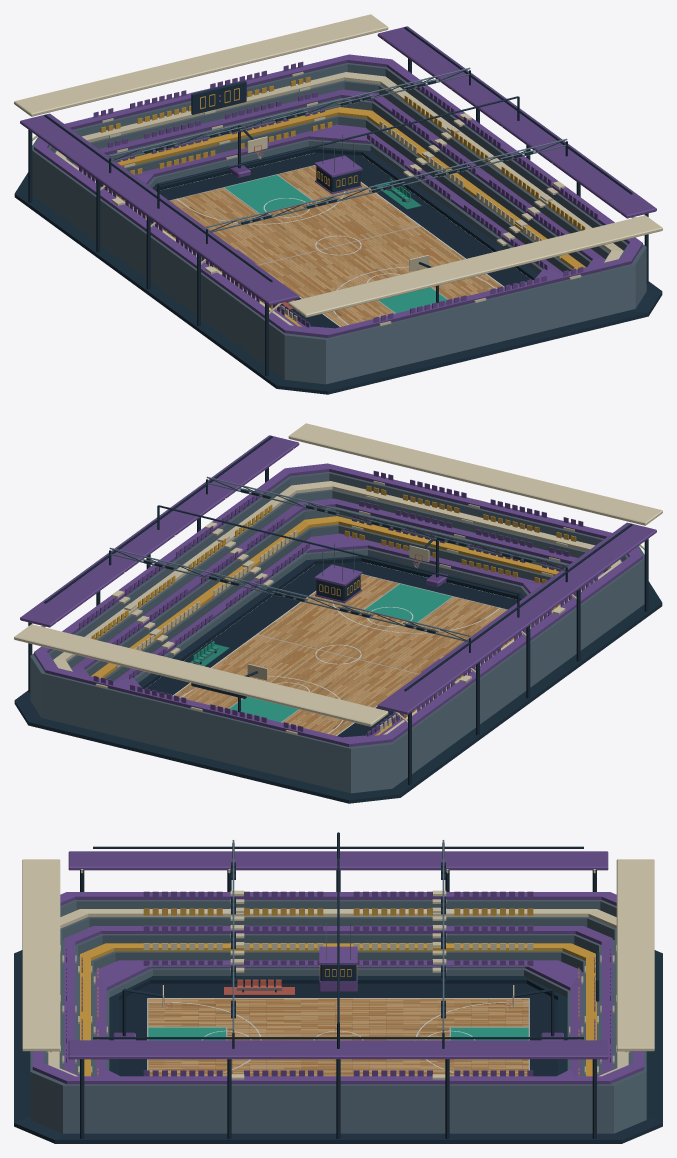
Rendered from basketball-arena.glb.
3 renders of one model, top to bottom at view 1: azimuth 30°, elevation 25°; view 2: azimuth 150°, elevation 25°; view 3: azimuth 270°, elevation 25°, orthographic. The views are drawn at different scales.
Visible parts, largest first — view 1: arena_shell, roof, seating, court_surface, individual_seats, court_runoff, lighting_trusses, painted_keys, hanging_scoreboard, beams, stand_stairs, court_markings (+3 smaller); view 2: arena_shell, roof, seating, court_surface, individual_seats, court_runoff, lighting_trusses, painted_keys, hanging_scoreboard, beams, stand_stairs, court_markings (+1 smaller); view 3: arena_shell, roof, seating, court_surface, individual_seats, court_runoff, lighting_trusses, beams, stand_stairs, hanging_scoreboard, painted_keys, court_markings (+4 smaller).
Part boxes in pixels (bbox=[...]): arena_shell: bbox=[14, 63, 662, 394]; roof: bbox=[14, 14, 662, 317]; seating: bbox=[34, 54, 642, 337]; court_surface: bbox=[170, 165, 503, 326]; individual_seats: bbox=[79, 61, 598, 327]; court_runoff: bbox=[159, 152, 530, 328]; lighting_trusses: bbox=[44, 27, 632, 282]; painted_keys: bbox=[225, 175, 446, 313]; hanging_scoreboard: bbox=[157, 96, 519, 208]; beams: bbox=[28, 39, 648, 376]; stand_stairs: bbox=[102, 68, 581, 325]; court_markings: bbox=[169, 165, 504, 326]; arena_shell: bbox=[14, 472, 662, 803]; roof: bbox=[14, 423, 662, 726]; seating: bbox=[34, 463, 642, 746]; court_surface: bbox=[173, 574, 506, 735]; individual_seats: bbox=[78, 470, 597, 736]; court_runoff: bbox=[146, 561, 517, 737]; lighting_trusses: bbox=[44, 436, 632, 691]; painted_keys: bbox=[230, 584, 451, 722]; hanging_scoreboard: bbox=[157, 505, 519, 617]; beams: bbox=[28, 448, 648, 785]; stand_stairs: bbox=[95, 477, 574, 734]; court_markings: bbox=[172, 574, 507, 735]; arena_shell: bbox=[14, 900, 662, 1143]; roof: bbox=[22, 851, 654, 1059]; seating: bbox=[32, 892, 644, 1084]; court_surface: bbox=[148, 998, 528, 1076]; individual_seats: bbox=[50, 891, 626, 1076]; court_runoff: bbox=[119, 983, 557, 1076]; lighting_trusses: bbox=[93, 840, 583, 1048]; beams: bbox=[80, 869, 596, 1139]; stand_stairs: bbox=[46, 890, 630, 1079]; hanging_scoreboard: bbox=[319, 832, 357, 1048]; painted_keys: bbox=[148, 1027, 528, 1040]; court_markings: bbox=[147, 998, 529, 1075].
Bounding box in the file's own units: 35.6 × 9.39 × 47.6.
